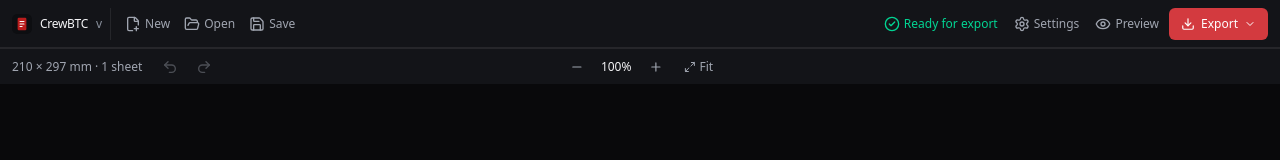
it: the top bar › hides the all-sheets option when there is only one sheet
Click the button with aria-label "Export PDF". click: (1218, 24)
box: [1169, 8, 1268, 40]
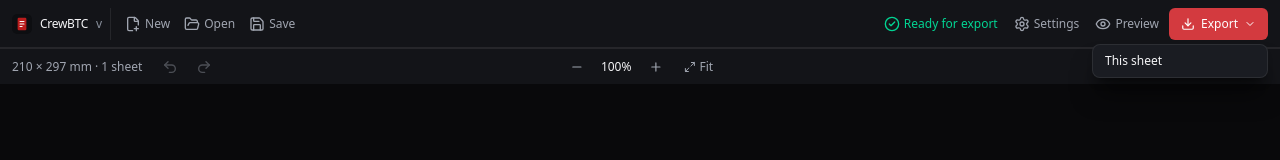
Check: the menu item "This sheet" is shown, box [1093, 44, 1267, 76]
